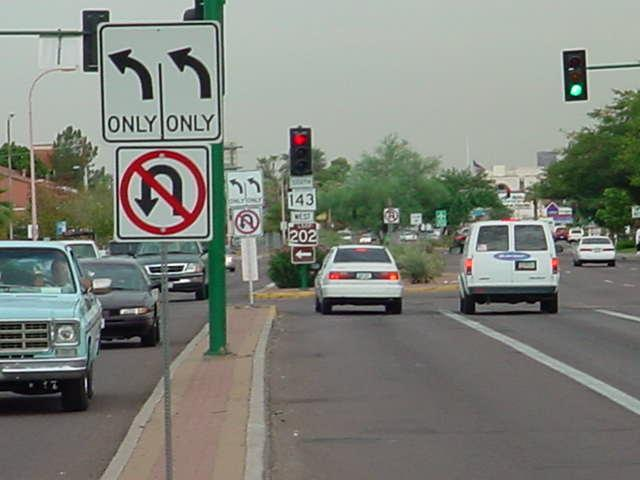green_traffic_light: (557, 44, 596, 107)
no_u_turn: (115, 149, 203, 233)
